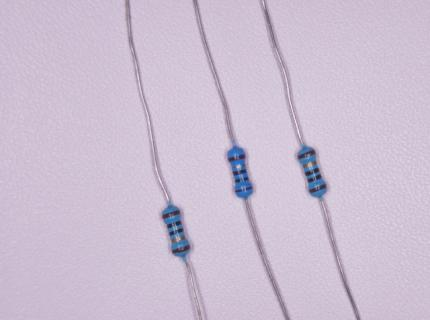Black band: (168, 227, 184, 236), (167, 220, 182, 229), (304, 167, 319, 176), (308, 174, 322, 183), (233, 169, 247, 176), (235, 176, 249, 183)
Brown band: (298, 149, 316, 160), (172, 244, 190, 254), (309, 183, 327, 193), (162, 210, 180, 219), (228, 154, 245, 162), (235, 186, 253, 193)
Gold band: (303, 160, 317, 169), (171, 235, 186, 243), (232, 164, 246, 169)
